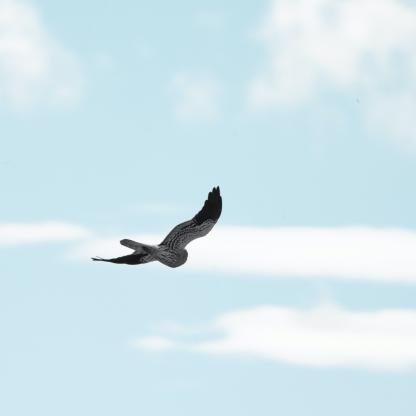bird: (91, 186, 222, 269)
